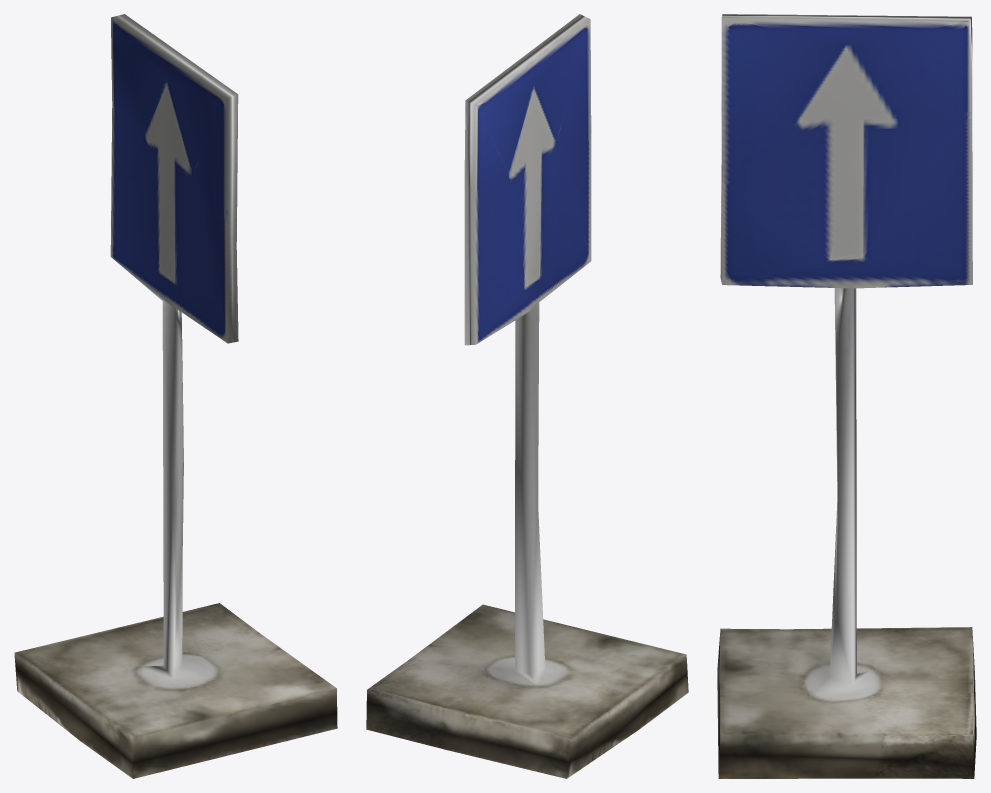
Rendered from rambu_lurus.glb.
3 views of the same model, side by side, from view 1: azimuth 30°, elevation 25°; view 2: azimuth 150°, elevation 25°; view 3: azimuth 270°, elevation 25° (orthographic). The views are drawn at different scales.
Parts seen in each view (by area): view 1: tripo_node_c8df17a8; view 2: tripo_node_c8df17a8; view 3: tripo_node_c8df17a8.
Part boxes in pixels (bbox=[...]): tripo_node_c8df17a8: bbox=[14, 14, 337, 778]; tripo_node_c8df17a8: bbox=[366, 14, 688, 778]; tripo_node_c8df17a8: bbox=[717, 14, 976, 778].
Size of the model in its own units: 33 by 99.94 by 33.09.
1 material, 1 textured.
